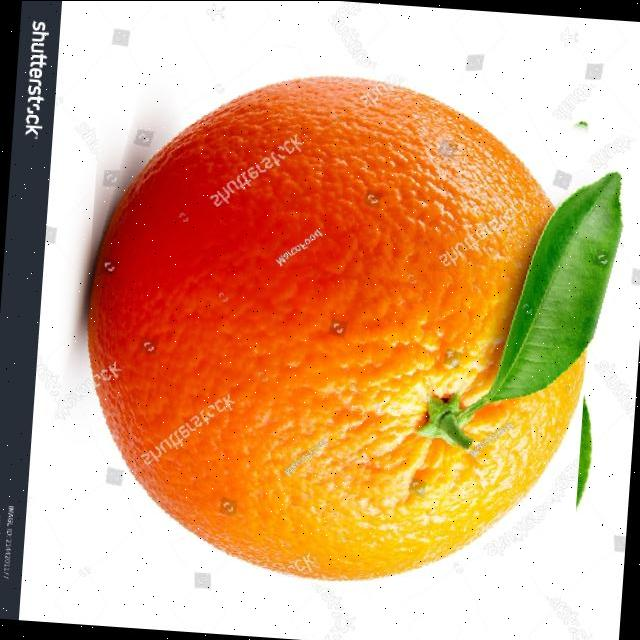Orange: (84, 75, 587, 582)
